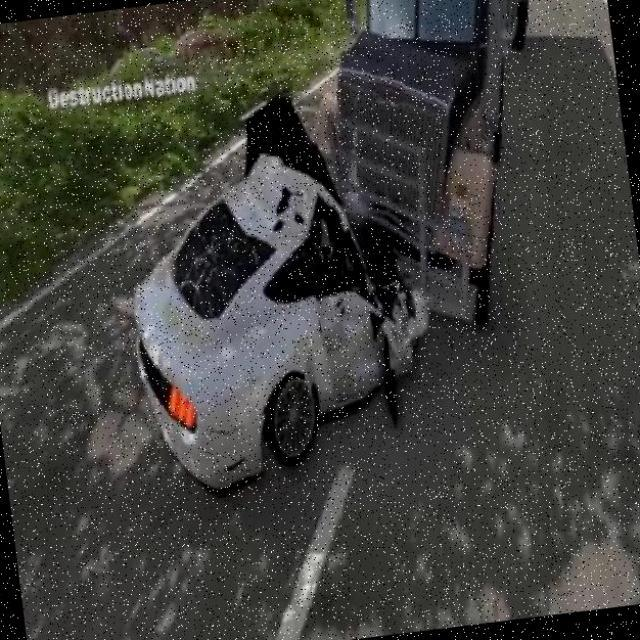accident: (239, 67, 485, 393)
